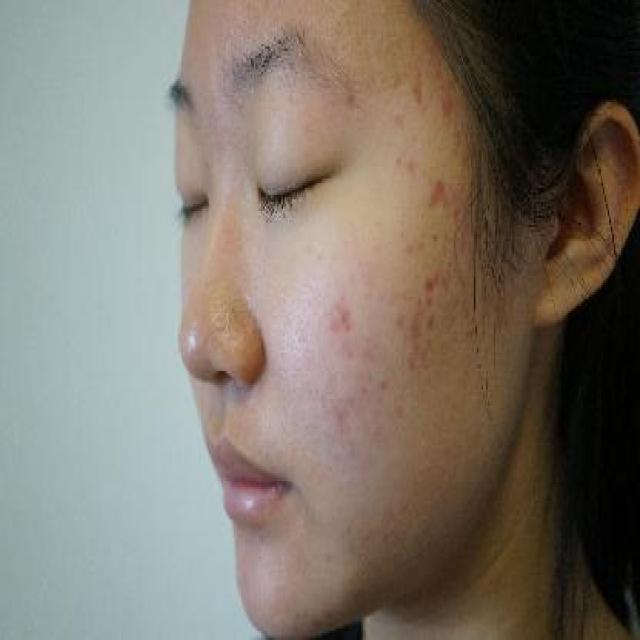dark spot: (402, 294, 429, 382), (323, 299, 355, 343), (420, 264, 442, 299), (424, 313, 444, 339), (392, 306, 408, 336)
papules: (429, 169, 446, 218)
